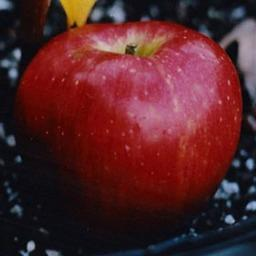apple: (11, 19, 240, 243)
